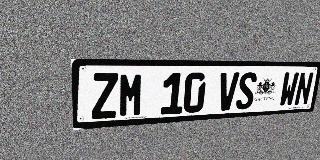0: (183, 72, 207, 113)
1: (161, 72, 185, 115)
M: (118, 73, 144, 118)
N: (293, 72, 314, 106)
S: (235, 72, 258, 110)
V: (216, 72, 239, 111)
W: (278, 72, 299, 107)
Z: (91, 73, 118, 119)
